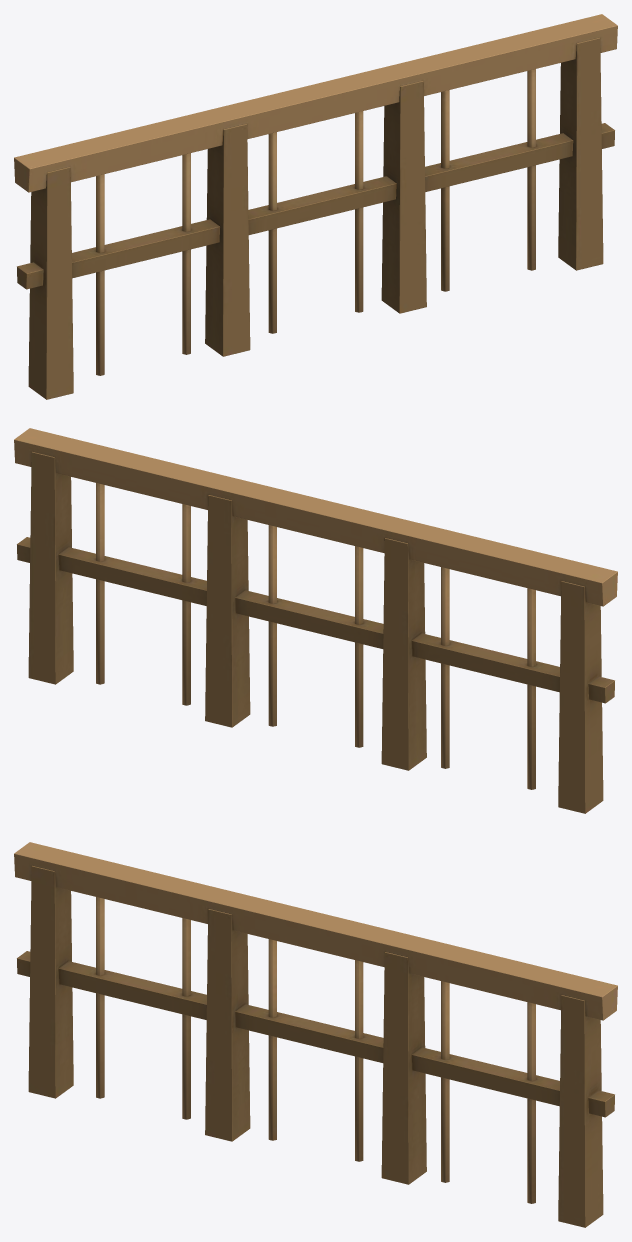
File: BD_railing.glb
3 views of the same model, one above another, from view 1: azimuth 30°, elevation 25°; view 2: azimuth 150°, elevation 25°; view 3: azimuth 330°, elevation 25° (orthographic).
Visible parts, largest first — view 1: BD_railing; view 2: BD_railing; view 3: BD_railing.
Boxes of the visible parts, left/top/right/bottom form: BD_railing: left=14, top=14, right=617, bottom=399; BD_railing: left=14, top=428, right=617, bottom=813; BD_railing: left=14, top=842, right=617, bottom=1227.
Bounding box in the file's own units: 3 × 1.14 × 0.16.
Materials: 1 (1 with a texture image).
